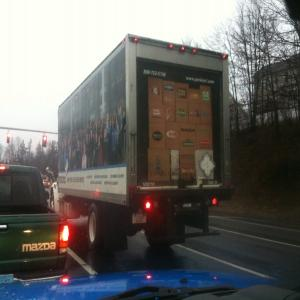Vehicle-registration-plate: (133, 214, 147, 225)
